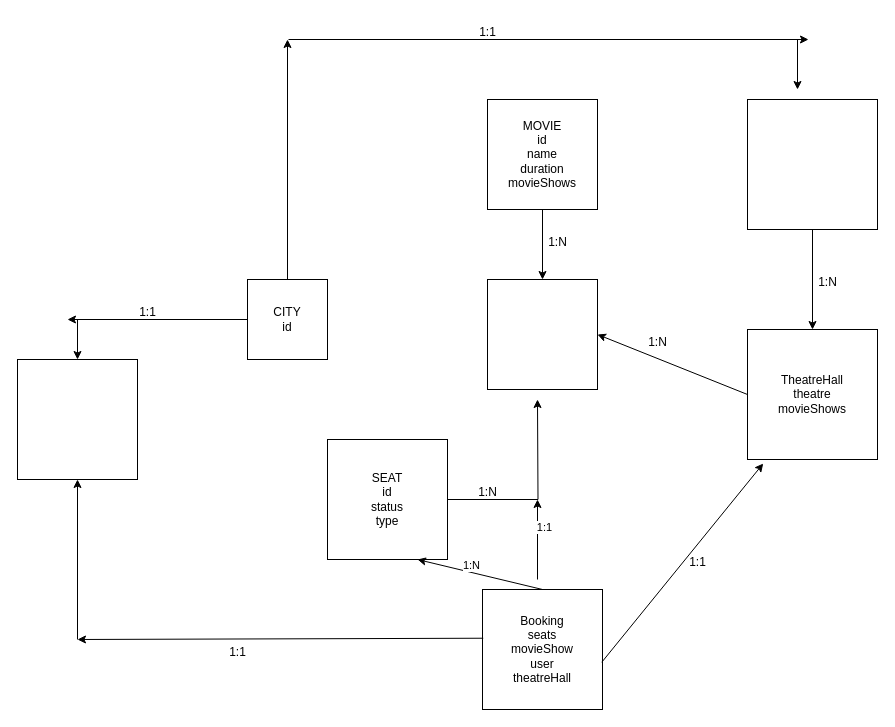
This 895x727 diagram has some shape labels left out. The centre of each missing label's shape, as x and y in pixels:
"MovieShow movie theatreHall time seats" goes at (x=542, y=334).
"Theatre id city theatreHalls" goes at (x=812, y=164).
"USER id name city phone" goes at (x=77, y=419).
